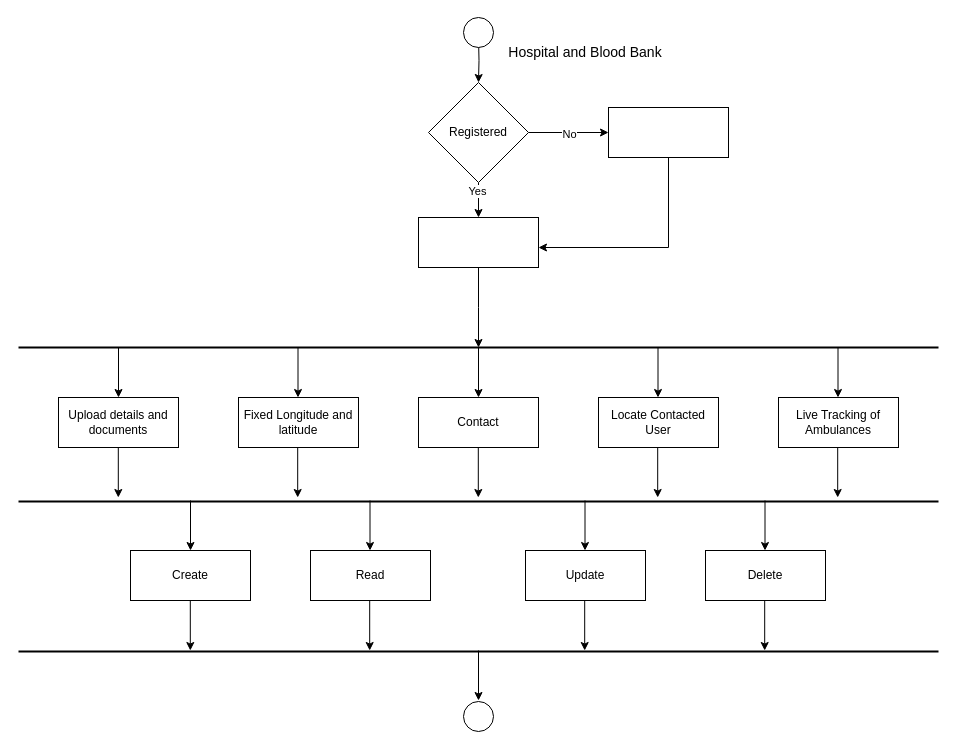
This 957x749 diagram has some shape labels left out. Here are the shapes that lost their labels. From the top down, the centre of each, then its label:
At [668,132]: "Signup".
At [478,242]: "Login".
